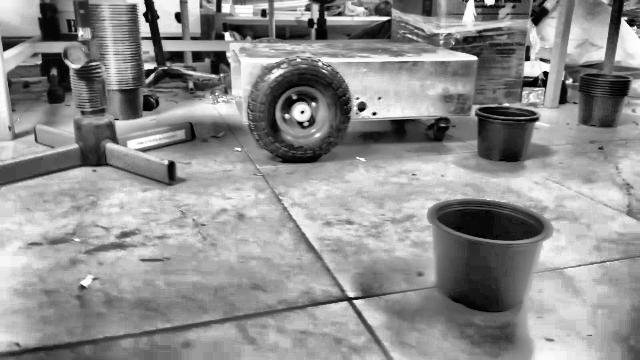pot: (430, 199, 549, 312), (476, 106, 539, 161), (578, 73, 631, 127)
